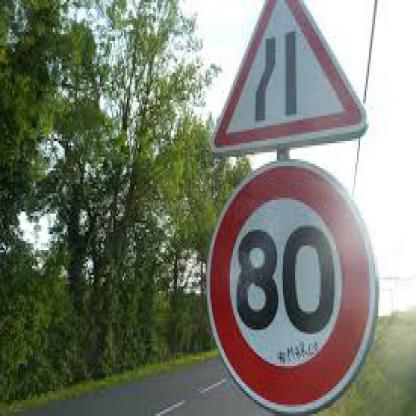Speed Limit 80: (208, 165, 377, 413)
